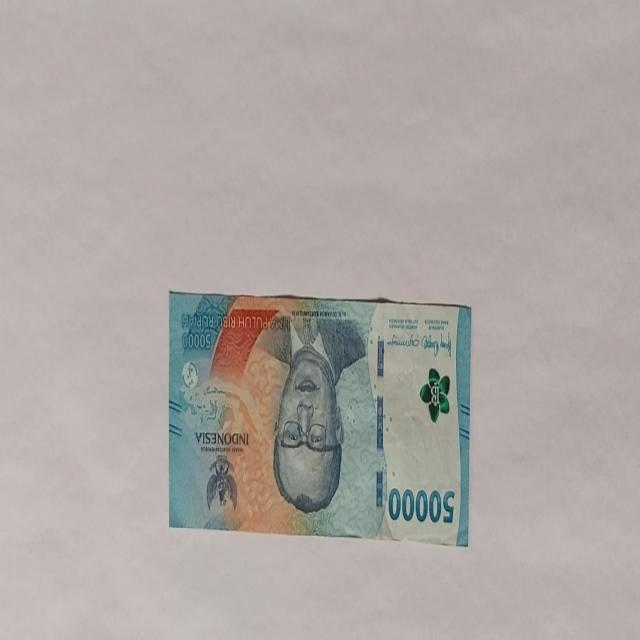lima puluh ribu rupiah: (168, 290, 472, 545), (366, 300, 472, 546)
